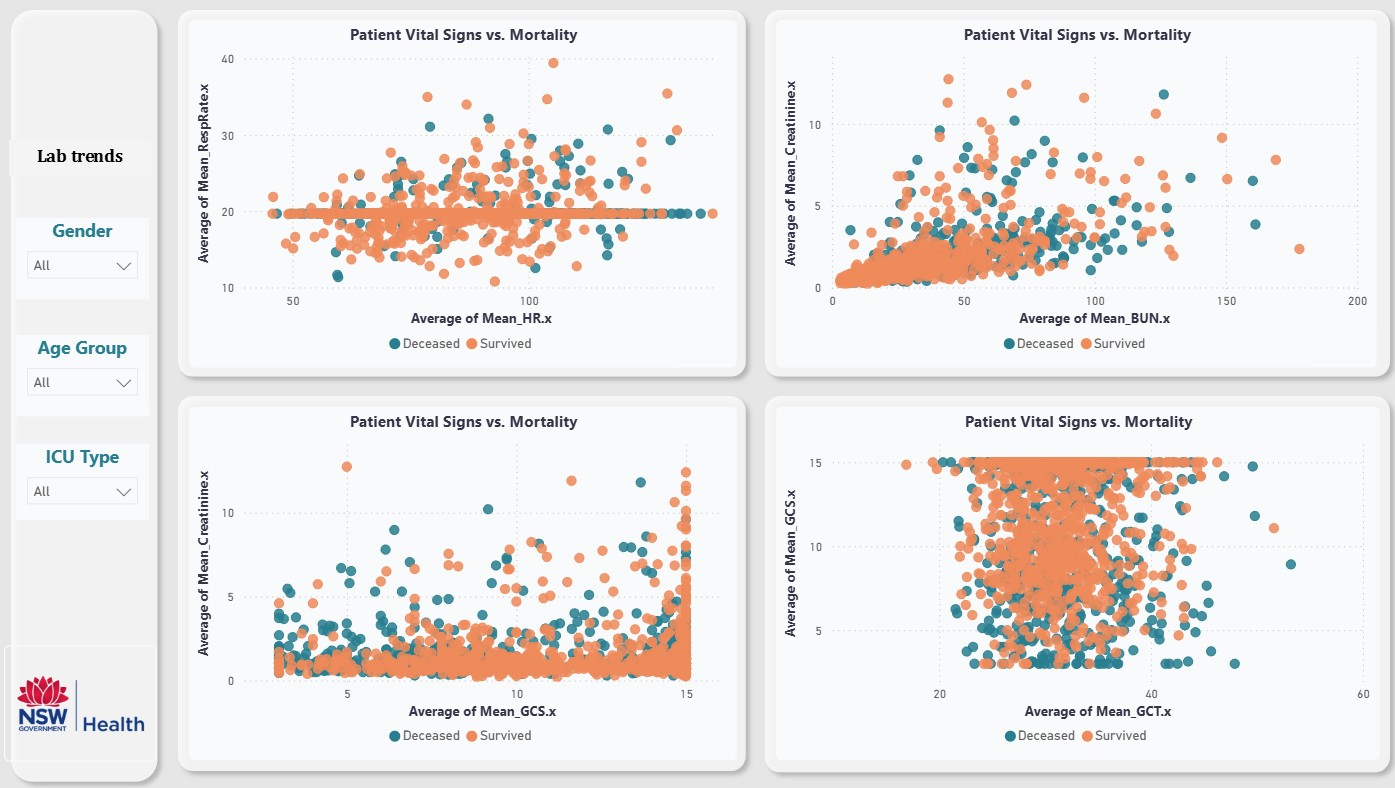

What the dashboard file says about the page in this screenshot:
{"tool":"powerbi","page":{"name":"Lab Trends","canvas":[1280,720],"ordinal":1},"visuals":[{"type":"shape","box":[8.1,0,151.2,719.6],"z":0},{"type":"shape","box":[693.7,351.3,586.3,360.2],"z":1000},{"type":"shape","box":[159.6,351.3,534.2,359.1],"z":2000},{"type":"shape","box":[693.7,0,586.3,351.3],"z":3000},{"type":"shape","box":[159.6,0,534.2,351.3],"z":4000},{"type":"scatterChart","title":"Patient Vital Signs vs. Mortality","fields":{"Series":["ICU data.Mortality"],"Category":["ICU data.RecordID"],"Y":["Avg(ICU data.Mean_Creatinine.x)"],"X":["Avg(ICU data.Mean_GCS.x)"]},"box":[179.5,370.1,497.6,321.4],"z":5000},{"type":"scatterChart","title":"Patient Vital Signs vs. Mortality","fields":{"Series":["ICU data.Mortality"],"Category":["ICU data.RecordID"],"Y":["ICU data.Mean_GCS.x"],"X":["Avg(ICU data.Mean_GCT.x)"]},"box":[712.6,370.1,548.6,321.4],"z":6000},{"type":"scatterChart","title":"Patient Vital Signs vs. Mortality","fields":{"Series":["ICU data.Mortality"],"Category":["ICU data.RecordID"],"X":["Avg(ICU data.Mean_HR.x)"],"Y":["Avg(ICU data.Mean_RespRate.x)"]},"box":[179.5,17.7,497.6,315.8],"z":7000},{"type":"scatterChart","title":"Patient Vital Signs vs. Mortality","fields":{"Series":["ICU data.Mortality"],"Category":["ICU data.RecordID"],"X":["Avg(ICU data.Mean_BUN.x)"],"Y":["Avg(ICU data.Mean_Creatinine.x)"]},"box":[712.6,17.7,546.4,315.8],"z":8000},{"type":"slicer","title":"Age Group","fields":{"Values":["ICU data.Age Group"]},"box":[22.2,304.1,120.6,73.6],"z":9000},{"type":"slicer","title":"Gender","fields":{"Values":["ICU data.Gender"]},"box":[22.2,198.6,120.6,73.6],"z":10000},{"type":"slicer","title":"ICU Type","fields":{"Values":["ICU data.ICUType"]},"box":[22.2,403.4,120.6,69.2],"z":11000},{"type":"textbox","box":[15.5,127.4,128.6,33.2],"z":12000},{"type":"image","box":[11.1,586.3,138.5,106.4],"z":13000}]}

Visuals, with their boxes in screenshot pixels (x1, y1, x2, y2), scaled from the page's 1280x720 canvas onto the 1395x788 screenshot:
shape: {"left": 9, "top": 0, "right": 174, "bottom": 787}
shape: {"left": 756, "top": 384, "right": 1394, "bottom": 779}
shape: {"left": 174, "top": 384, "right": 756, "bottom": 777}
shape: {"left": 756, "top": 0, "right": 1394, "bottom": 384}
shape: {"left": 174, "top": 0, "right": 756, "bottom": 384}
"Patient Vital Signs vs. Mortality" scatterChart: {"left": 196, "top": 405, "right": 738, "bottom": 757}
"Patient Vital Signs vs. Mortality" scatterChart: {"left": 777, "top": 405, "right": 1375, "bottom": 757}
"Patient Vital Signs vs. Mortality" scatterChart: {"left": 196, "top": 19, "right": 738, "bottom": 365}
"Patient Vital Signs vs. Mortality" scatterChart: {"left": 777, "top": 19, "right": 1372, "bottom": 365}
"Age Group" slicer: {"left": 24, "top": 333, "right": 156, "bottom": 413}
"Gender" slicer: {"left": 24, "top": 217, "right": 156, "bottom": 298}
"ICU Type" slicer: {"left": 24, "top": 441, "right": 156, "bottom": 517}
textbox: {"left": 17, "top": 139, "right": 157, "bottom": 176}
image: {"left": 12, "top": 642, "right": 163, "bottom": 758}
